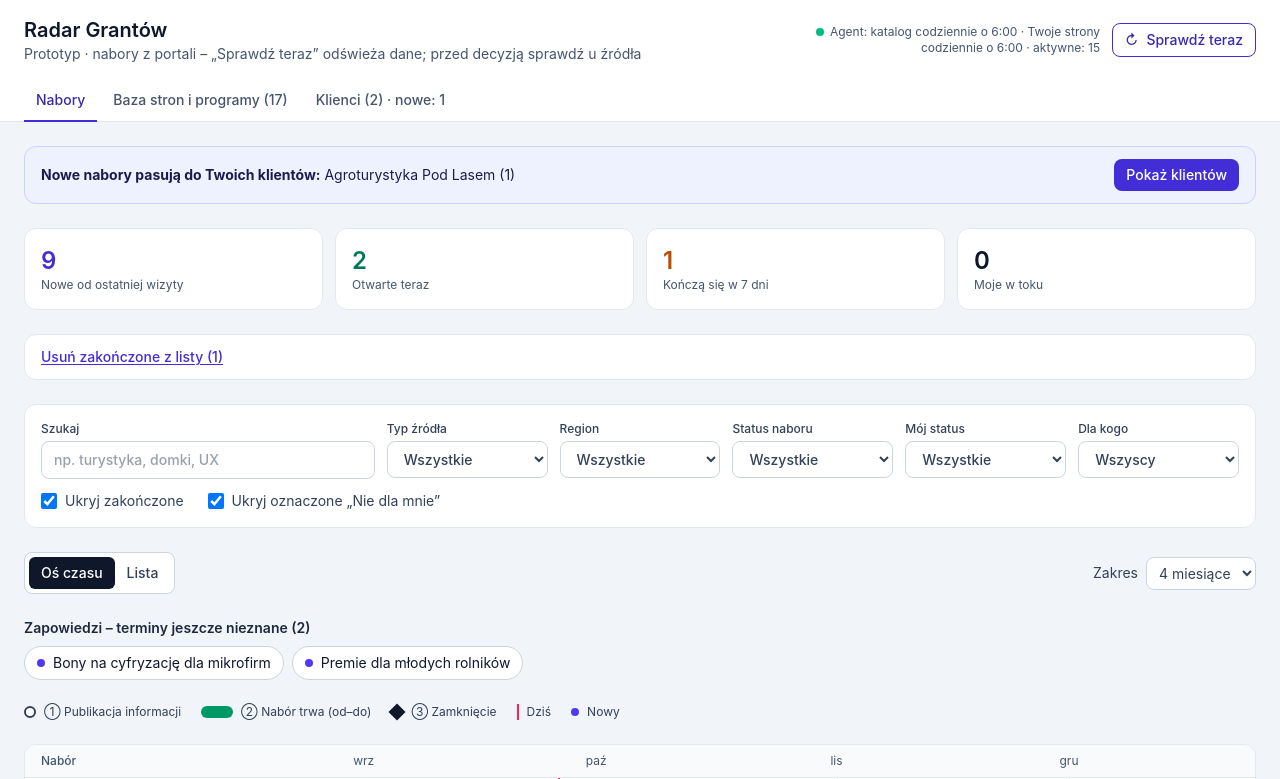
Klienci: zakładka, nowe dopasowania, wstrzymanie, usuwanie › archiwum: klient znika z tabeli i powiadomień, filtr „archiwum”, przywrócenie
Click the tab "Klienci (2) · nowe: 1": (380, 101) [304, 80, 457, 122]
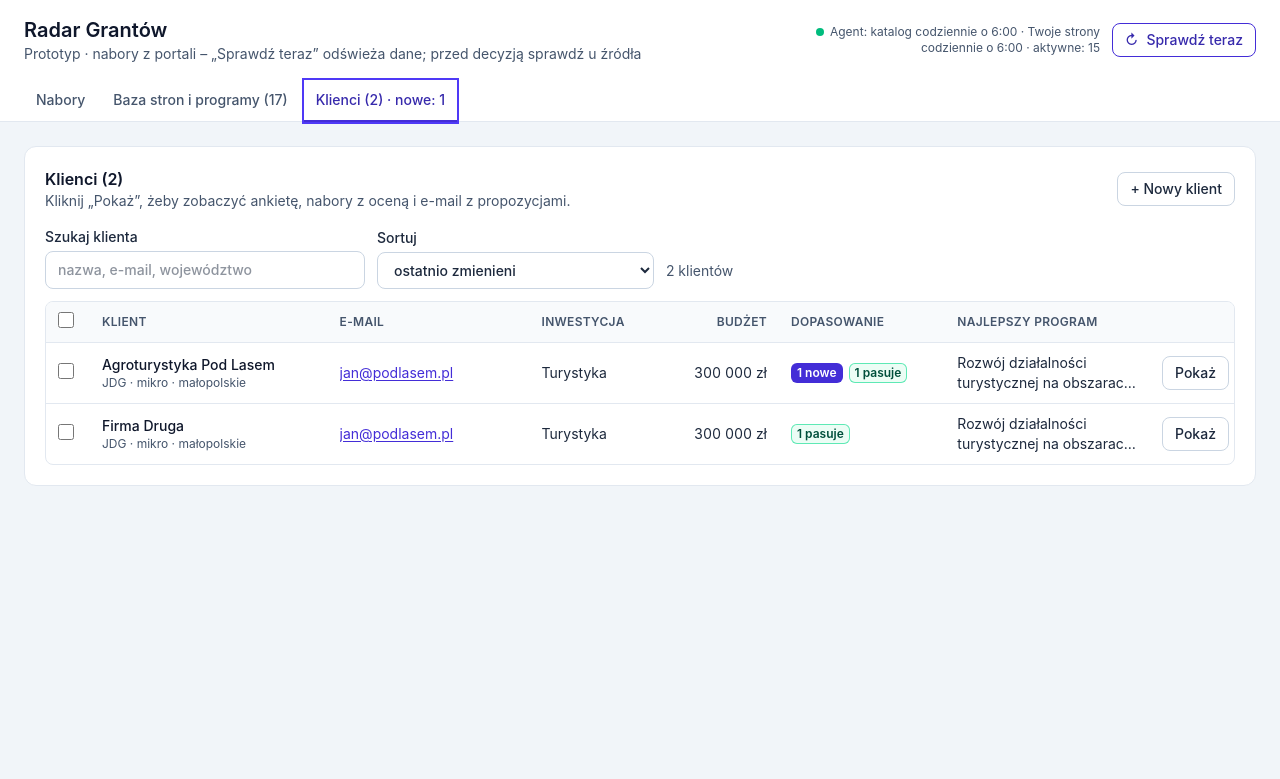
Click the button with aria-label "Pokaż szczegóły": (1196, 373) [1162, 356, 1229, 390]
(page scrolled)
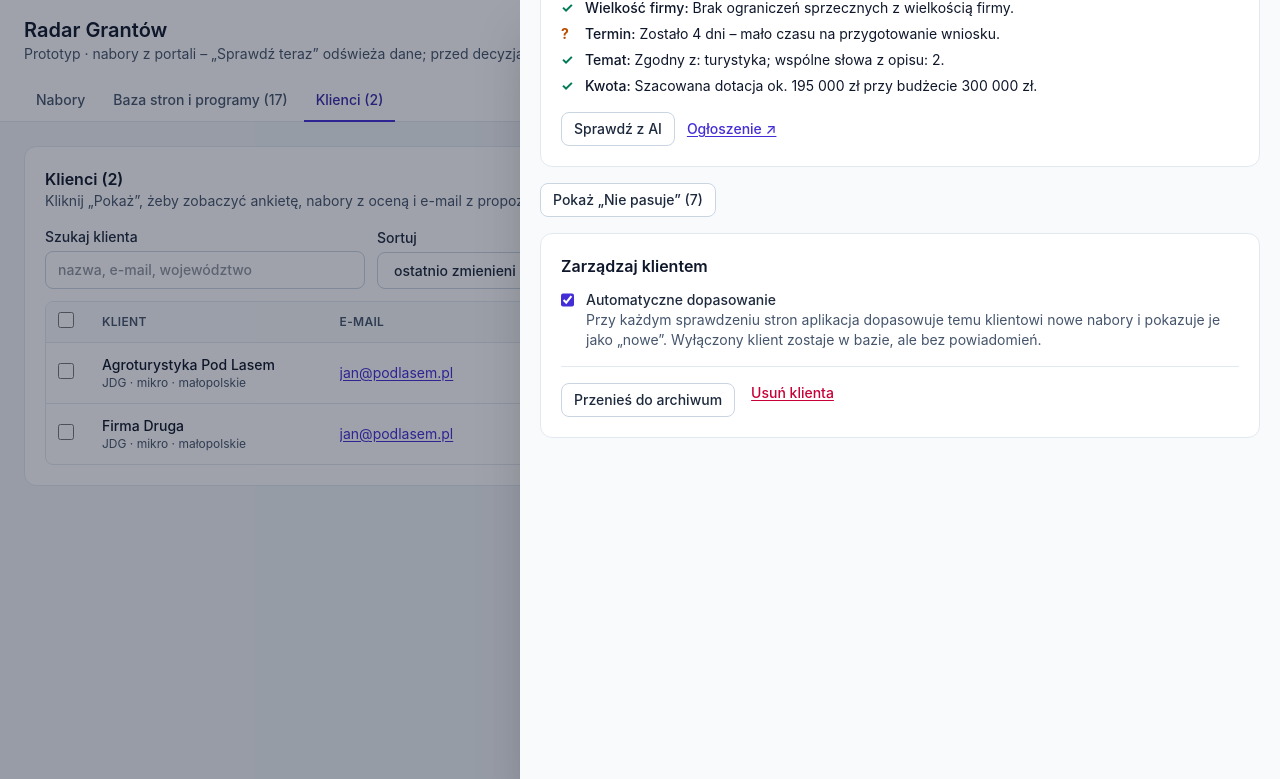
Click the button "Przenieś do archiwum": (648, 400) [561, 383, 735, 417]
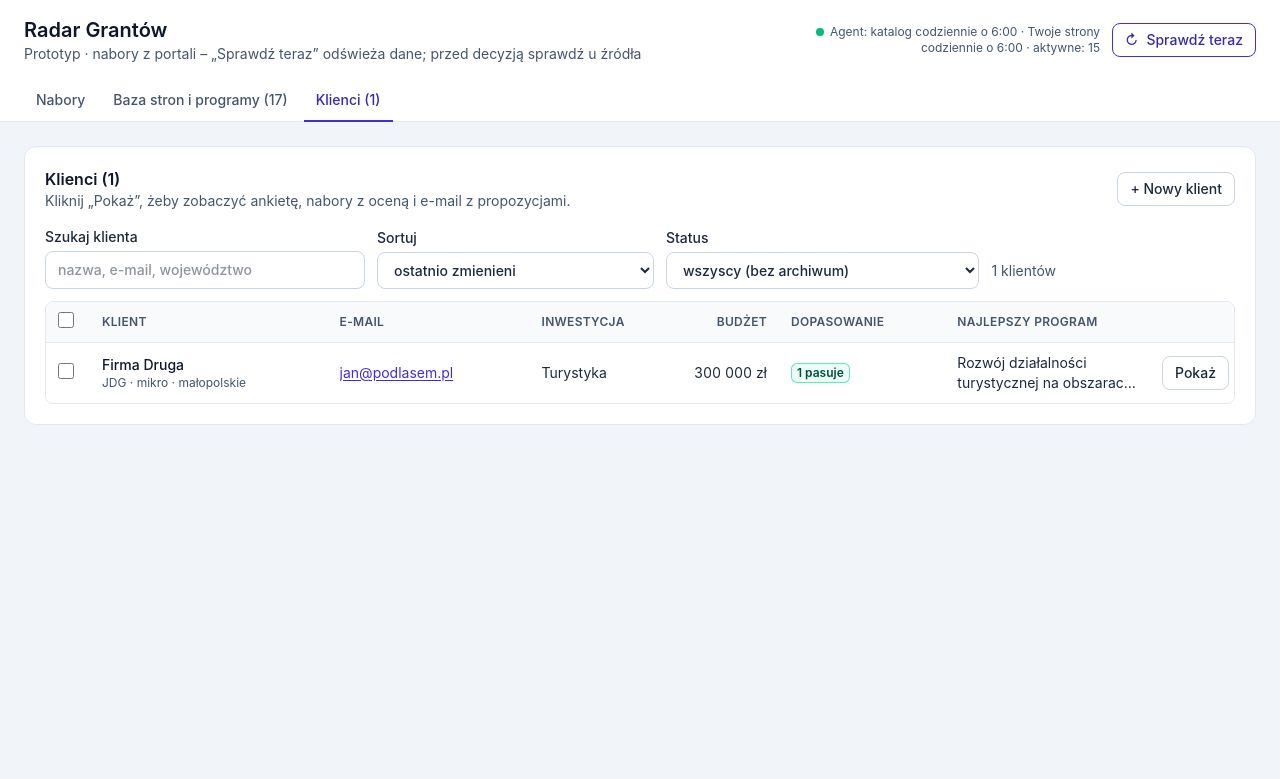
Now the tab "Klienci (1)" is shown, box [304, 80, 392, 122]
Select "archiwum (1)" in the dropdown labelled "Status": (823, 270) [666, 252, 980, 289]
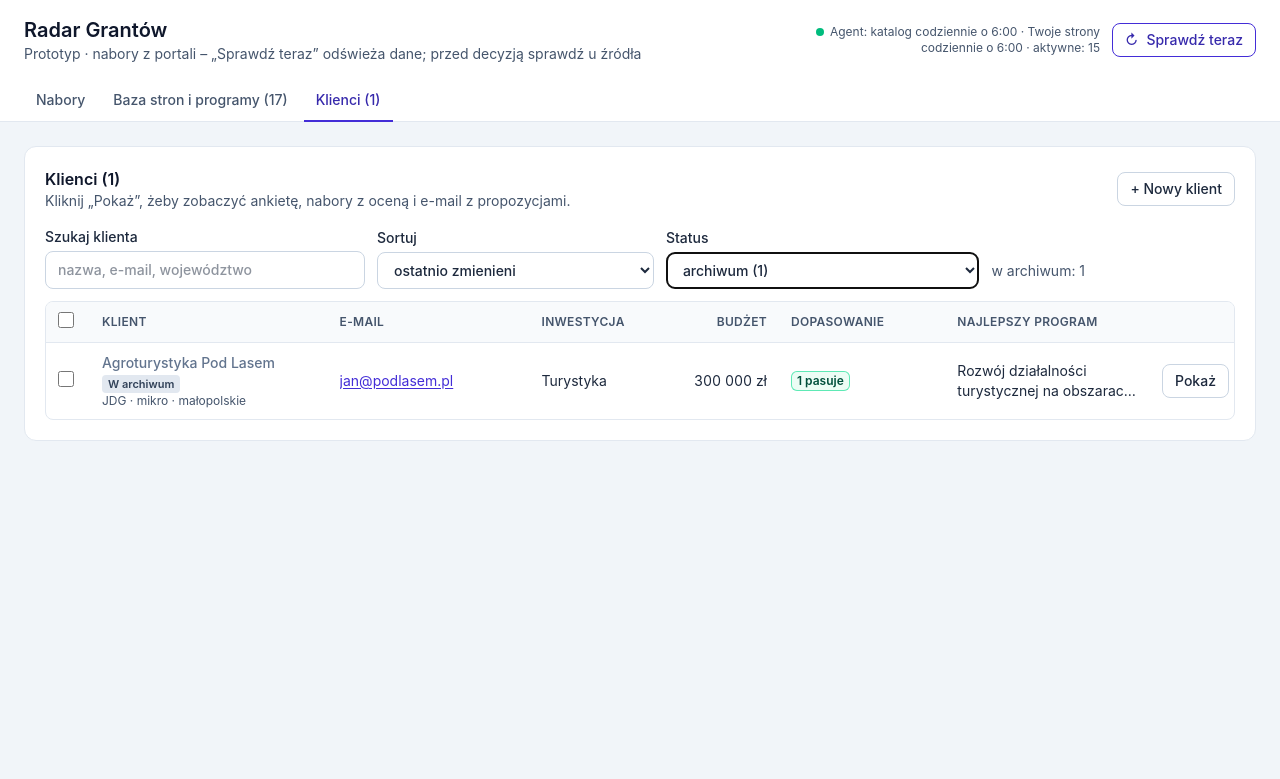
Now the text "W archiwum" is shown, box [102, 375, 180, 393]
Click the checkbox named "Zaznacz": (66, 378) [58, 370, 74, 386]
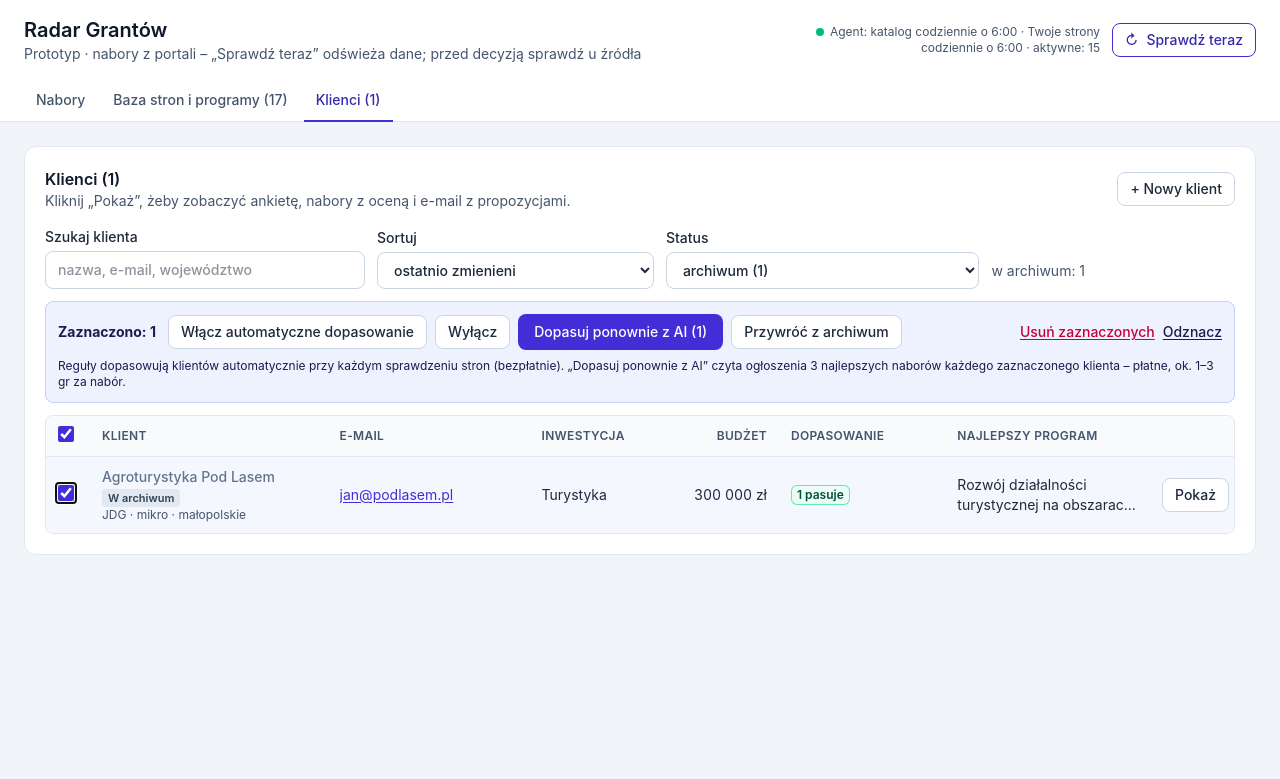
Click the button "Przywróć z archiwum": (816, 332) [731, 315, 902, 349]
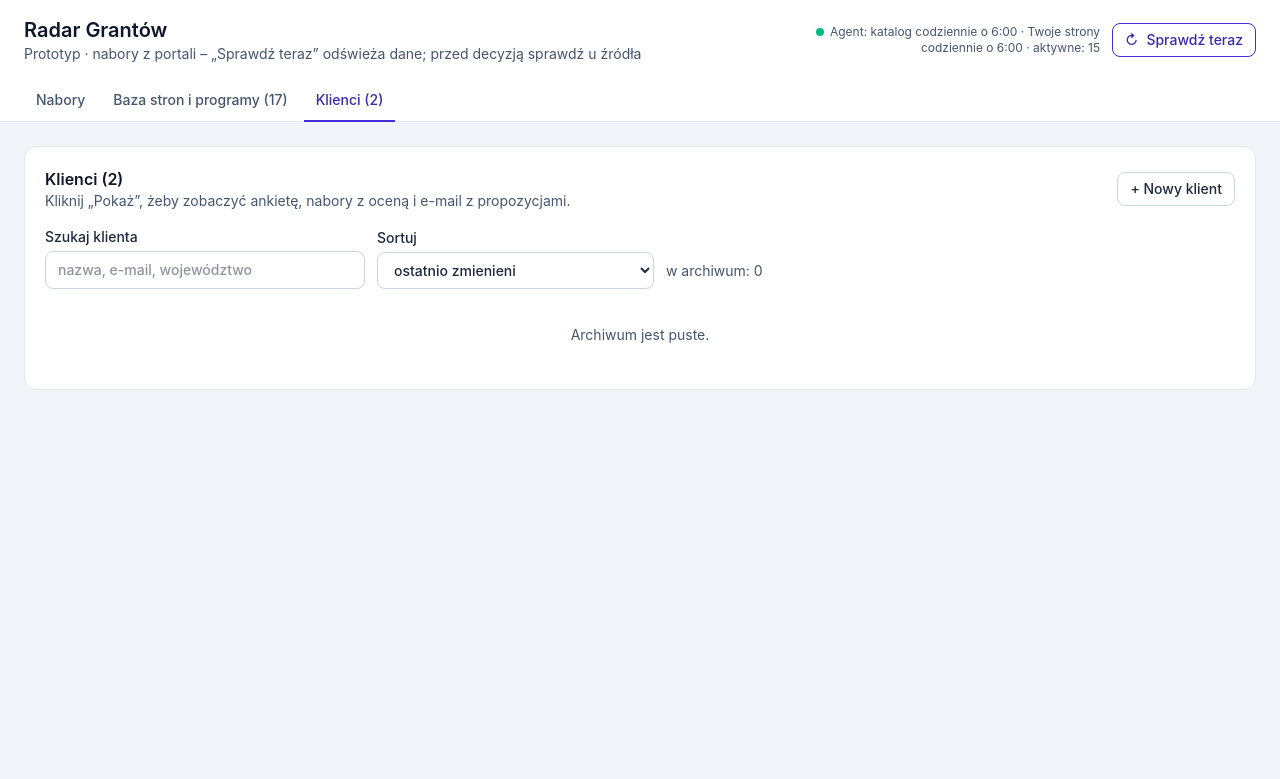
Now the text "Archiwum jest puste." is shown, box [571, 326, 709, 343]
Now the tab "Klienci (2)" is shown, box [304, 80, 395, 122]
